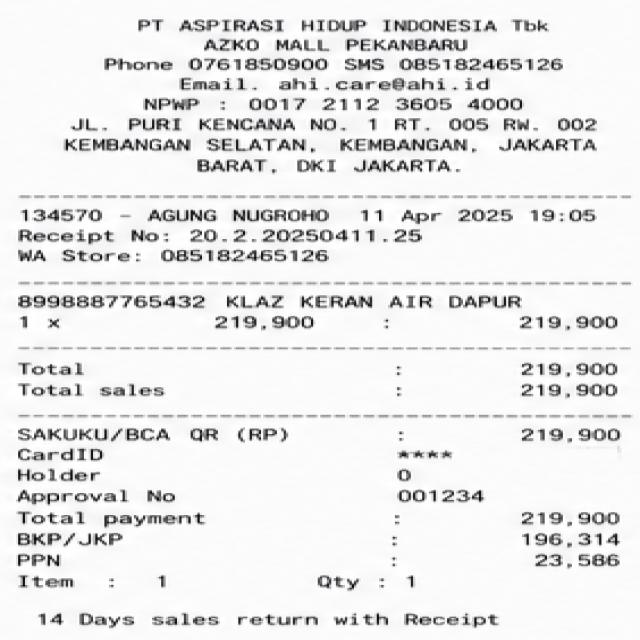date: (353, 202, 610, 228)
store: (138, 19, 566, 53)
total: (8, 508, 625, 530)
